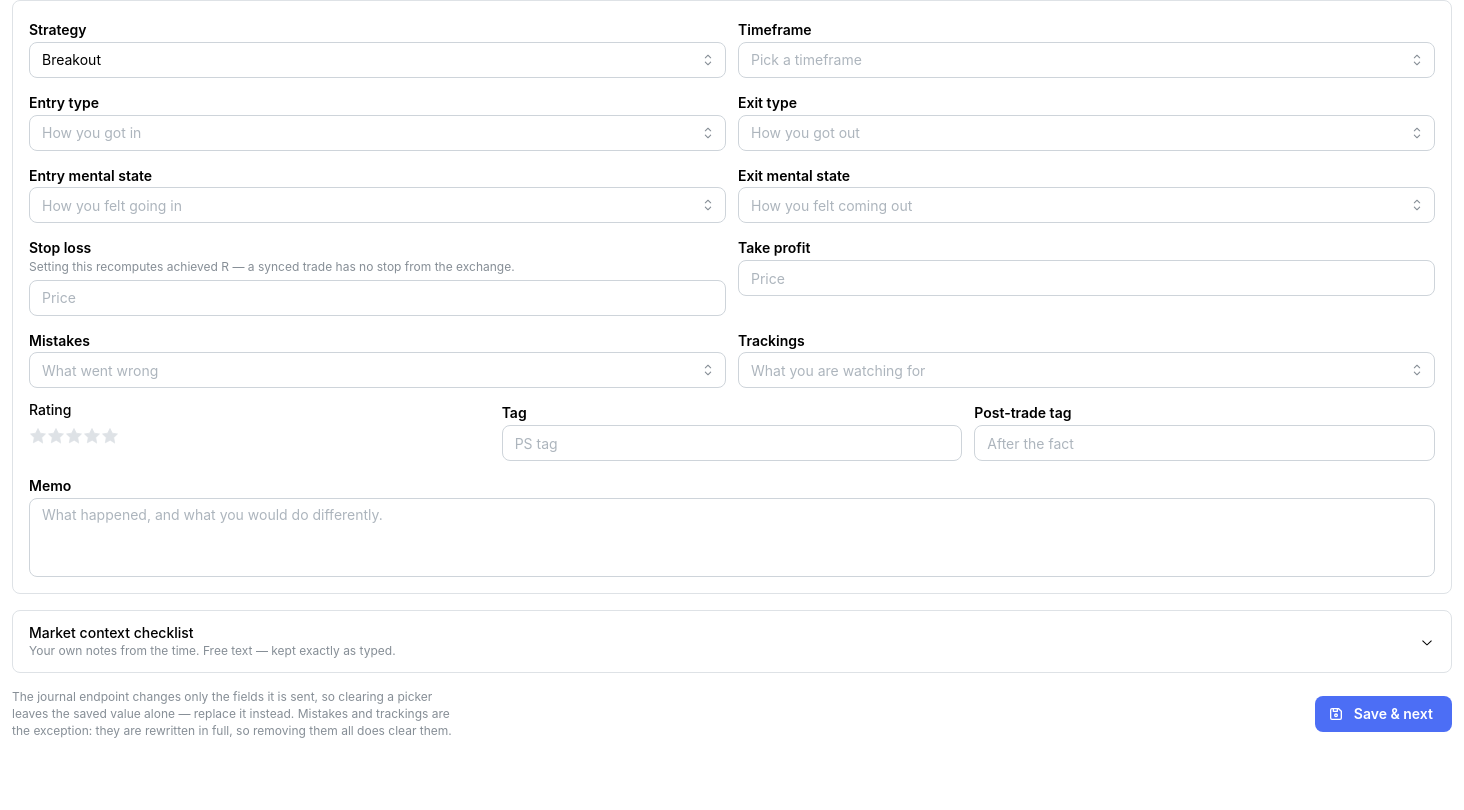
Test: JournalForm › surfaces an error naming a field the form does not have instead of swallowing it
Click the button "Save & next": (1383, 714) left=1315, top=696, right=1452, bottom=732
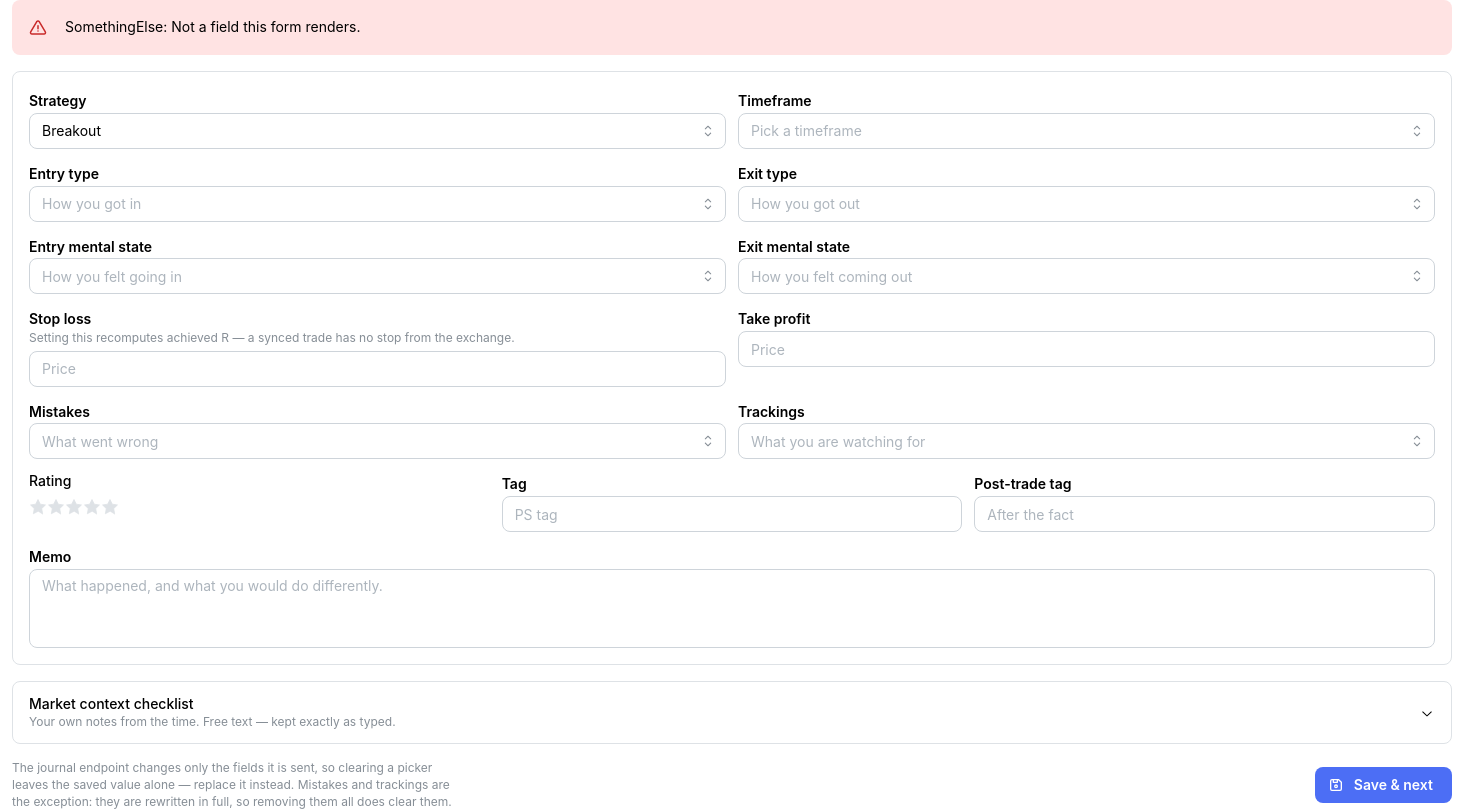
Expected: the text "SomethingElse: Not a field this form renders." is shown, left=65, top=18, right=360, bottom=35
